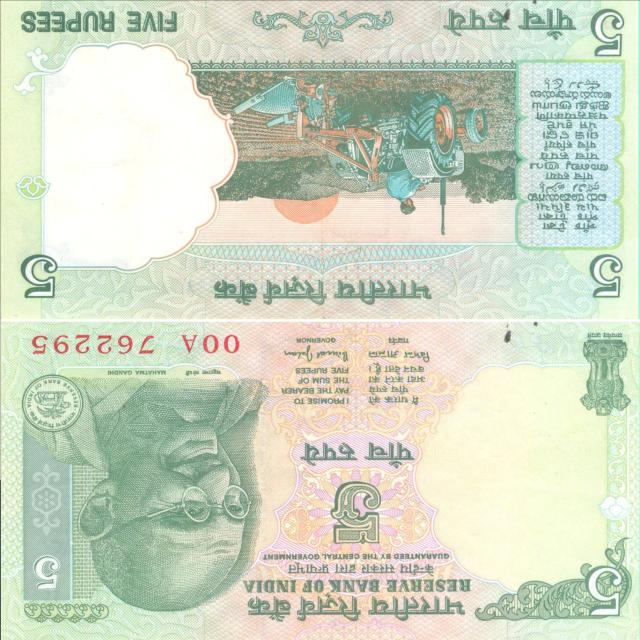5IndianRupees: (0, 0, 640, 314)
